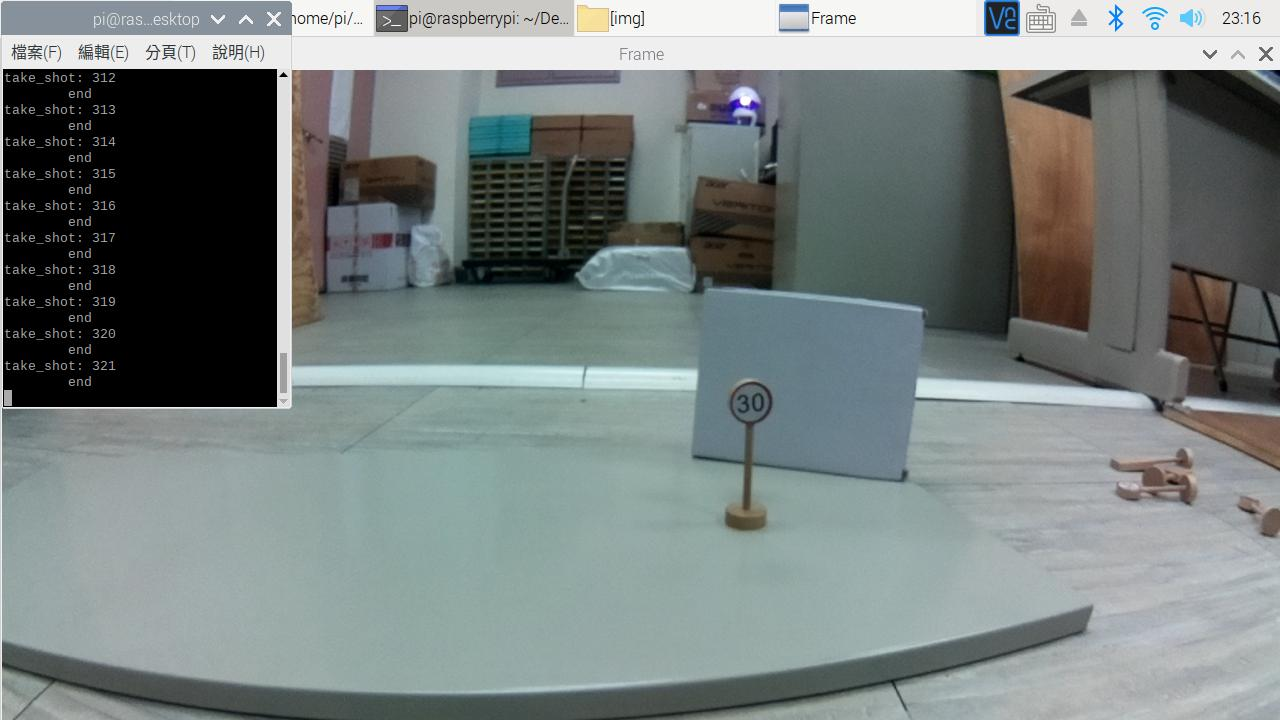Speed30: (714, 365, 787, 434)
